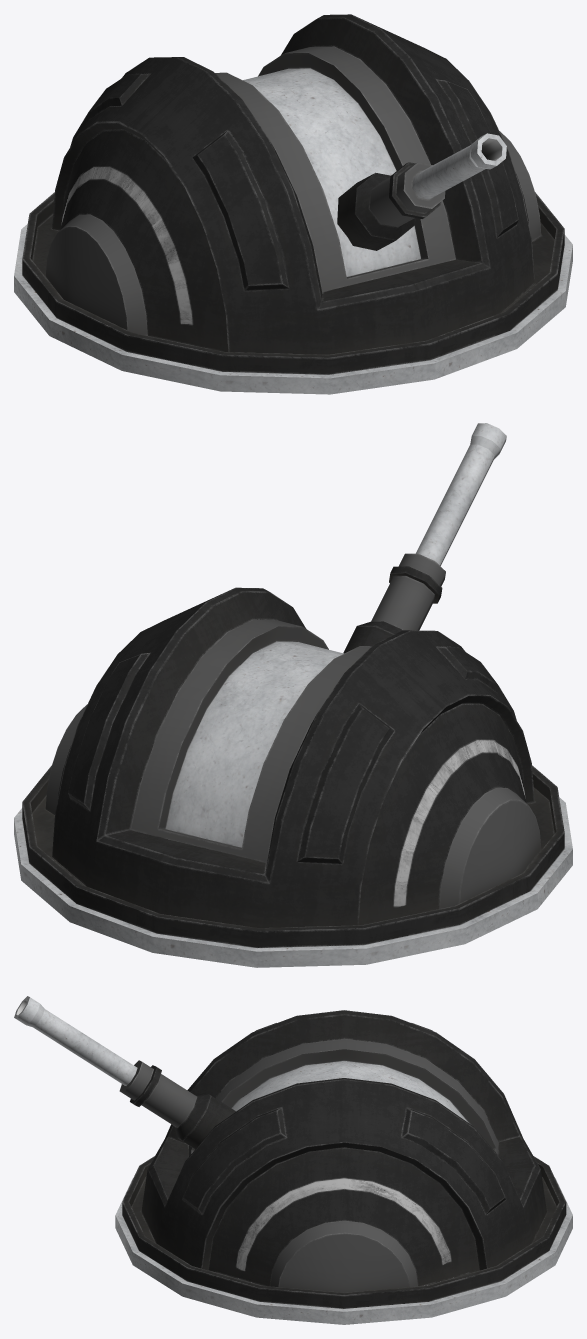
The model's file is turret.glb.
The picture shows the model from 3 angles, top to bottom: view 1: azimuth 30°, elevation 25°; view 2: azimuth 150°, elevation 25°; view 3: azimuth 270°, elevation 25°; orthographic projection. The views are drawn at different scales.
Visible parts, largest first — view 1: turret, gun; view 2: turret, gun; view 3: turret, gun.
Boxes of the visible parts, x1,y1,x2,y2 form: turret: [14, 14, 572, 394]; gun: [337, 133, 506, 250]; turret: [14, 587, 572, 967]; gun: [343, 423, 506, 653]; turret: [115, 1010, 572, 1324]; gun: [14, 996, 235, 1149].
Size of the model in its own units: 10.25 by 5.72 by 12.53.
1 material, 1 textured.
